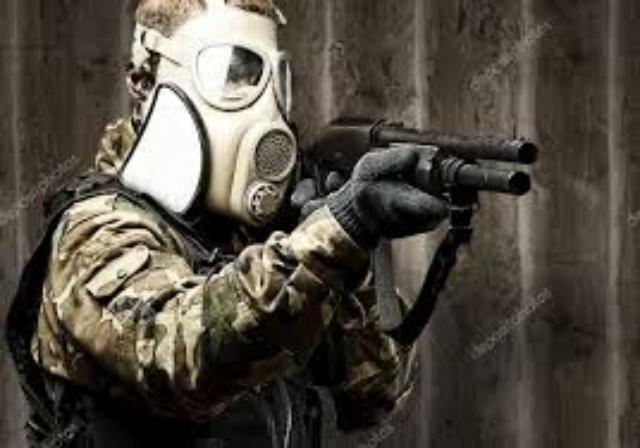other: (51, 3, 379, 435)
